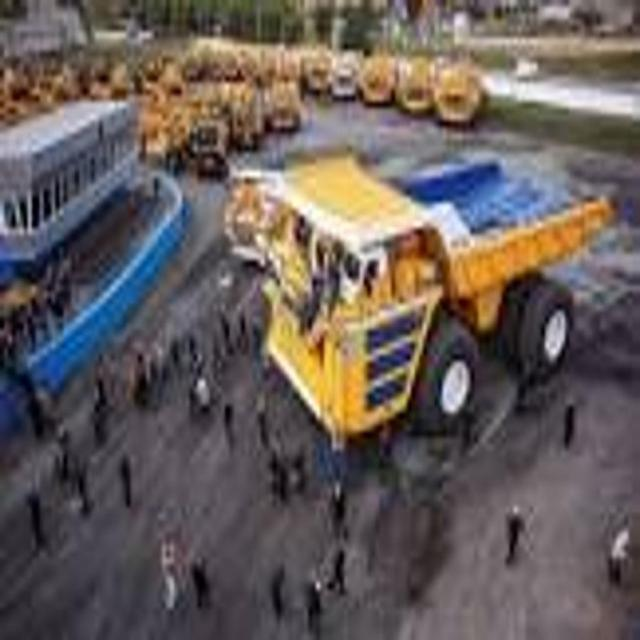dump_truck: (248, 140, 618, 452)
